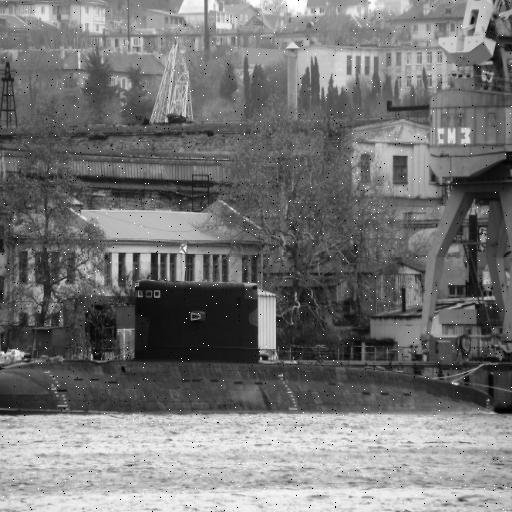submarine: (1, 286, 498, 415)
